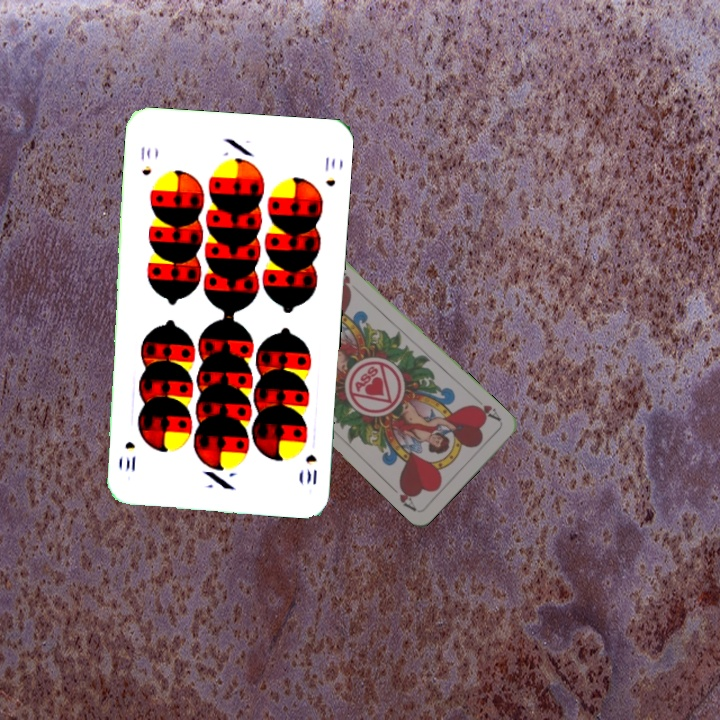HA: (468, 393, 503, 424)
S10: (301, 450, 319, 488), (136, 142, 154, 178)
